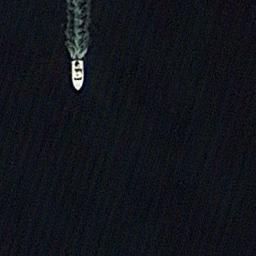boat: (68, 58, 84, 92)
